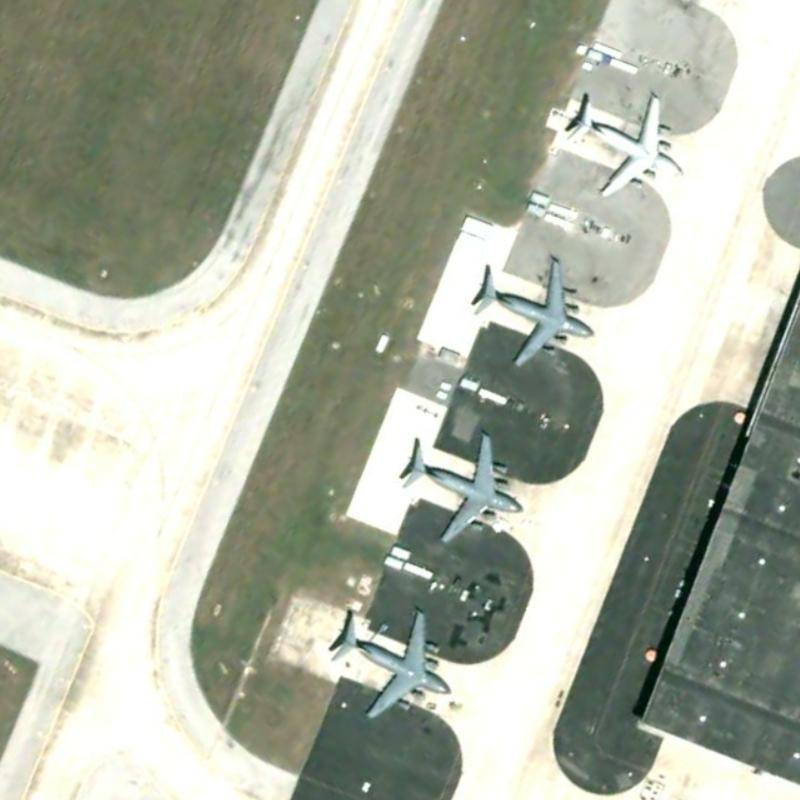A3: (386, 422, 529, 548), (548, 78, 692, 199), (325, 599, 462, 723), (469, 246, 603, 371)
